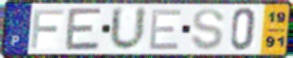0: (231, 6, 261, 52)
E: (63, 6, 104, 52), (147, 8, 184, 52)
F: (29, 8, 66, 51)
S: (189, 7, 227, 52)
U: (108, 5, 149, 53)
